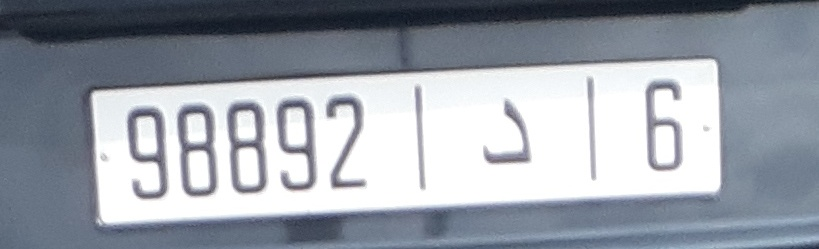2: (320, 89, 376, 195)
6: (638, 71, 691, 178)
8: (223, 92, 271, 202), (174, 97, 219, 203)
9: (122, 100, 173, 208), (272, 89, 320, 198)
d: (470, 92, 545, 170)
